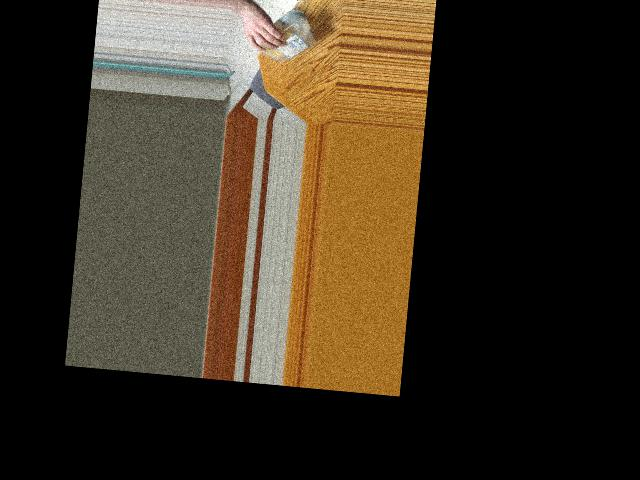cheese: (249, 7, 317, 64)
